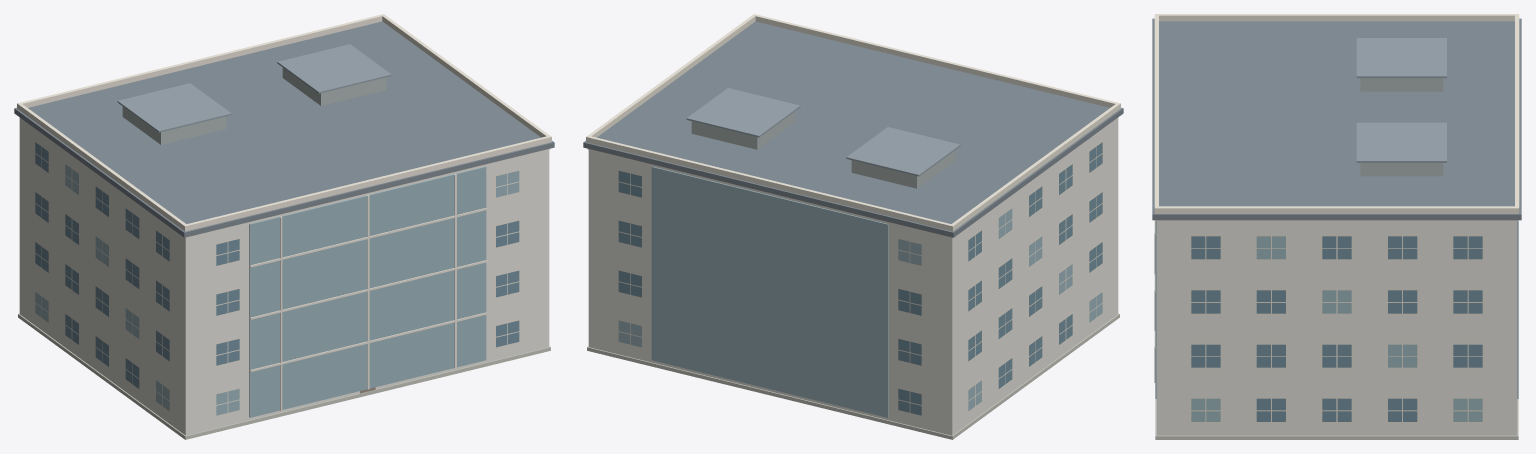
File: office-glass.glb
3 renders of one model, left to right at view 1: azimuth 30°, elevation 25°; view 2: azimuth 150°, elevation 25°; view 3: azimuth 270°, elevation 25°, orthographic. The views are drawn at different scales.
Parts seen in each view (by area): view 1: office-glass; view 2: office-glass; view 3: office-glass.
Boxes of the visible parts, bbox=[...] form: office-glass: bbox=[14, 14, 554, 439]; office-glass: bbox=[583, 14, 1123, 439]; office-glass: bbox=[1152, 14, 1521, 439].
Bounding box in the file's own units: 24.45 × 14.17 × 19.45.
